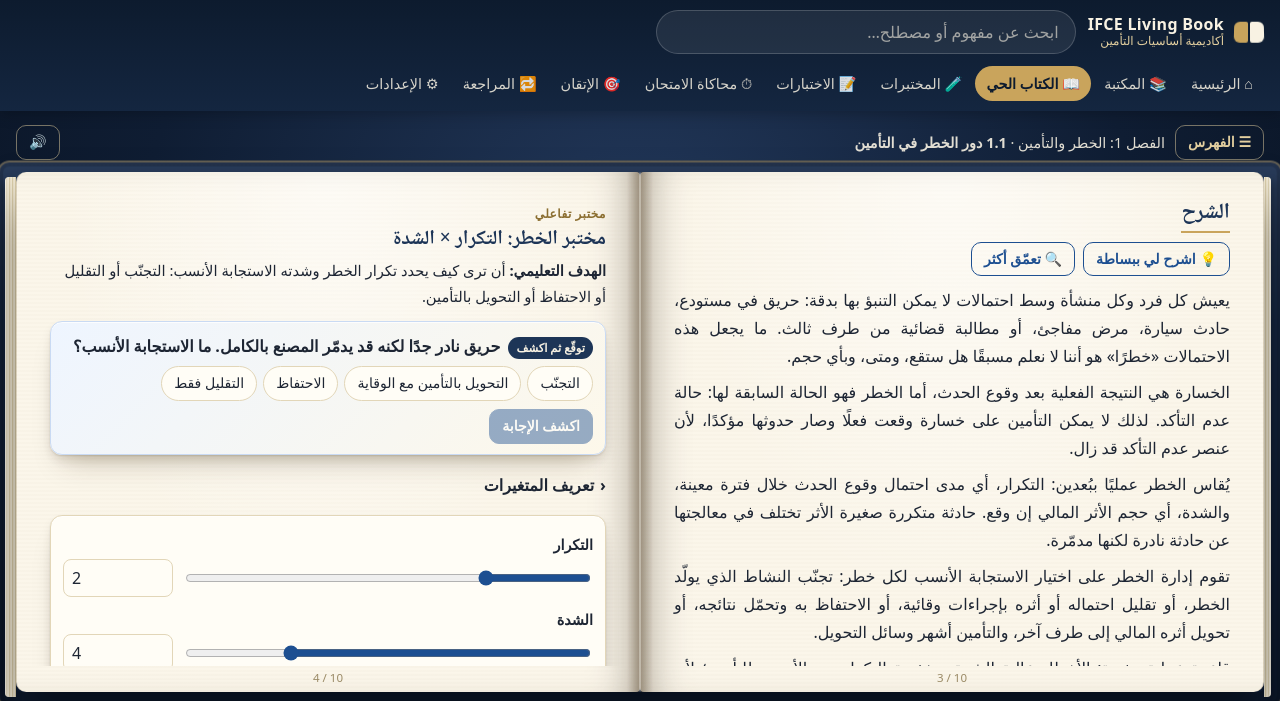
Scenario: navigation › "اشرح لي ببساطة" and "تعمّق أكثر" reveal extra layers
Click the button "💡 اشرح لي ببساطة" at (1157, 259), box [1083,242,1230,276]
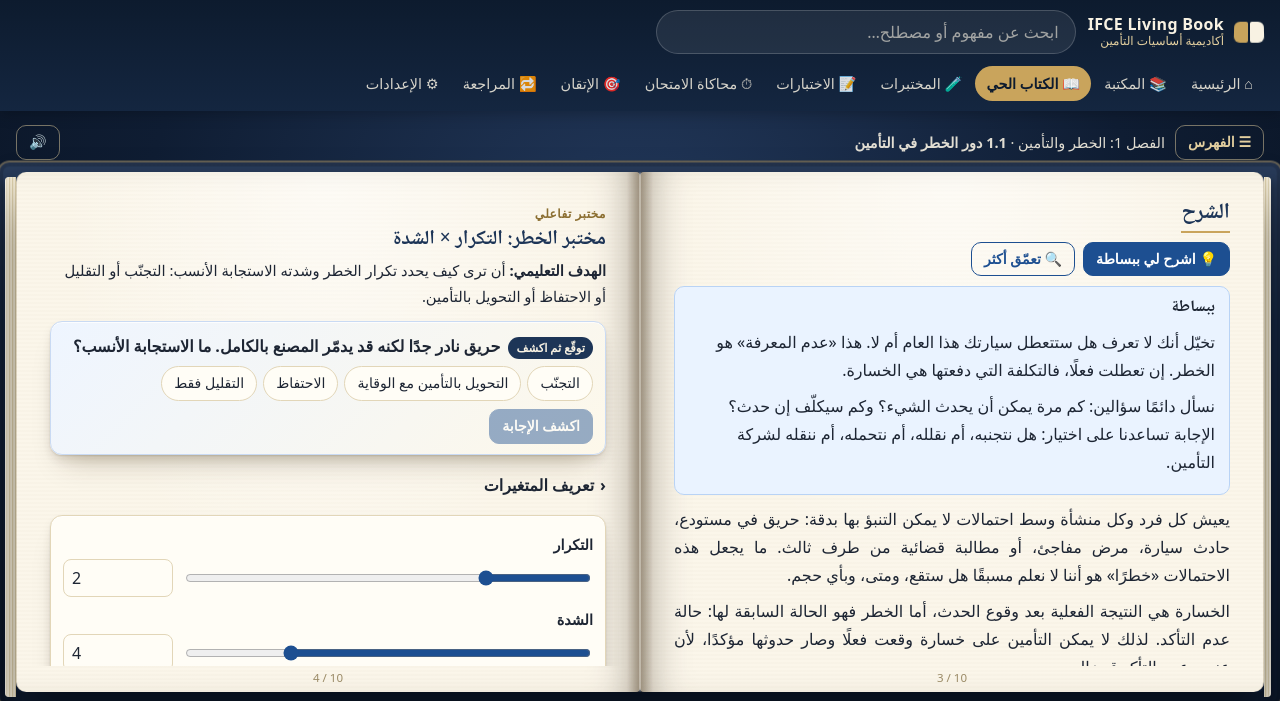
Expected: the element named "شرح مبسط" is shown, [674,286,1230,495]
Click the button "🔍 تعمّق أكثر" at (1023, 259), box [971,242,1075,276]
(page scrolled)
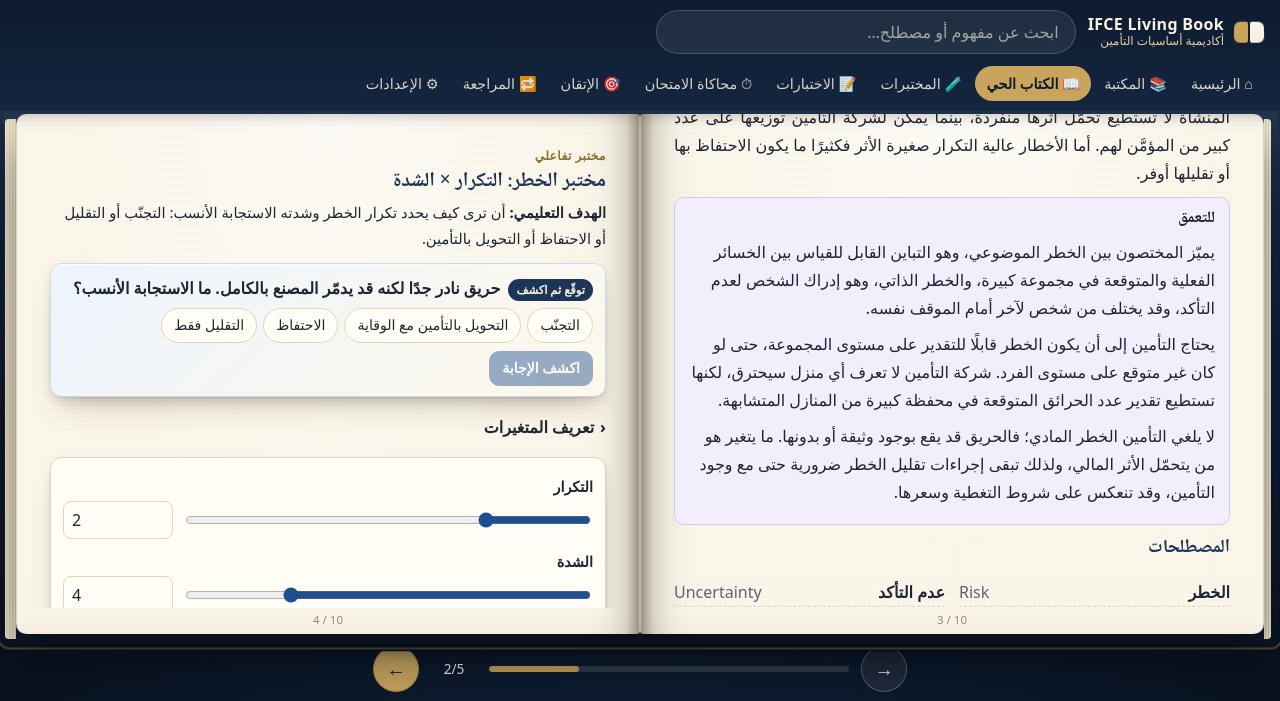
Expected: the element "تعمق" is shown, [674,197,1230,525]
